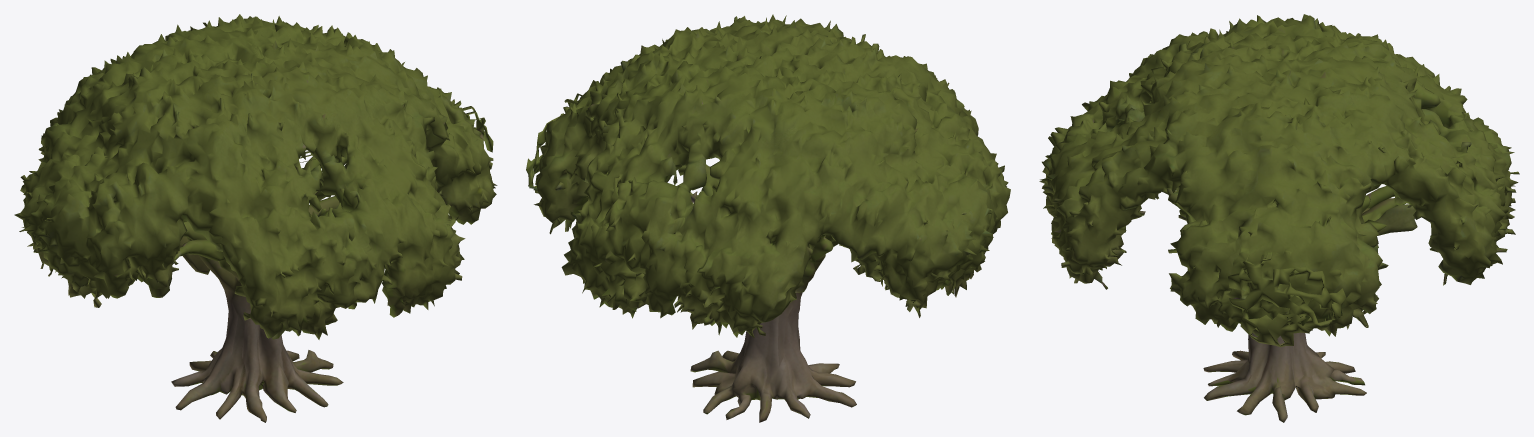
The model's file is ombu.glb.
The picture shows the model from 3 angles, left to right: view 1: azimuth 30°, elevation 25°; view 2: azimuth 150°, elevation 25°; view 3: azimuth 270°, elevation 25°; orthographic projection. The views are drawn at different scales.
Parts seen in each view (by area): view 1: temp_mesh.ply; view 2: temp_mesh.ply; view 3: temp_mesh.ply.
Part boxes in pixels (<box>): temp_mesh.ply: <box>14,14,497,422</box>; temp_mesh.ply: <box>526,14,1010,422</box>; temp_mesh.ply: <box>1039,14,1519,422</box>.
Size of the model in its own units: 15.98 by 12 by 15.72.
Materials: 1 (1 with a texture image).
